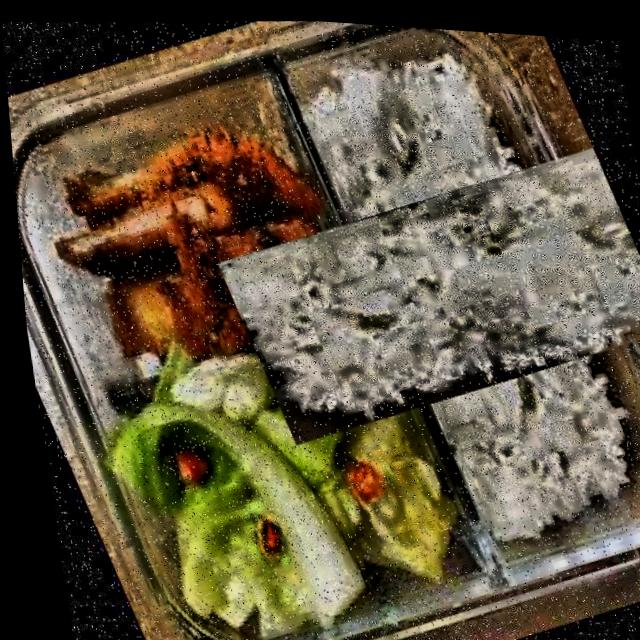Food: (235, 46, 640, 511)
